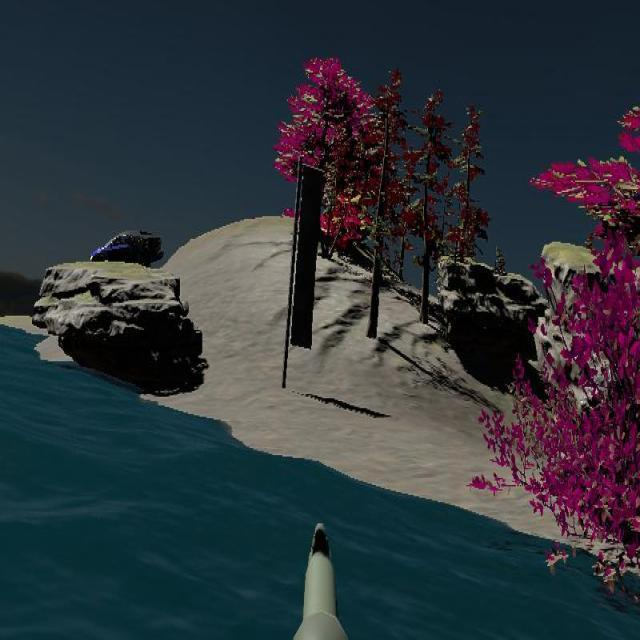car: (89, 229, 164, 272)
